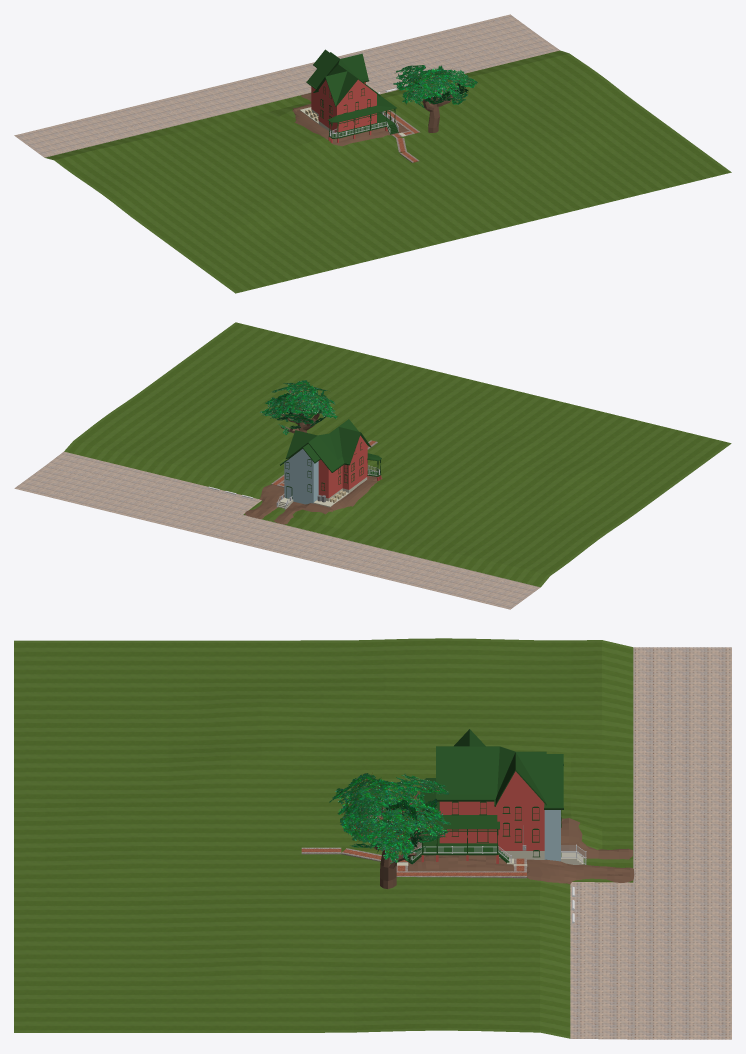
File: georgeStreetForAFrame2.glb
3 renders of one model, top to bottom at view 1: azimuth 30°, elevation 25°; view 2: azimuth 150°, elevation 25°; view 3: azimuth 270°, elevation 25°, orthographic. The views are drawn at different scales.
Visible parts, largest first — view 1: groundPlane, Plane.020, Cube, Plane.004, Plane, mulchPlane_01, tallTree, Cube.021; view 2: groundPlane, Plane.020, Cube, Cube.026, mulchPlane_02, mulchPlane_03, Plane.021; view 3: groundPlane, Plane.020, Cube, mulchPlane_02, Cube.026, mulchPlane_01, mulchPlane_03, Plane.003, Plane, Plane.004, Cube.021, Cube.047 (+4 smaller).
Part boxes in pixels (x1,y1,x2,y2): groundPlane: (45, 50, 731, 293); Plane.020: (14, 14, 559, 157); Cube: (307, 52, 379, 132); Plane.004: (418, 68, 460, 99); Plane: (328, 94, 396, 122); mulchPlane_01: (329, 113, 408, 146); tallTree: (405, 71, 460, 132); Cube.021: (328, 112, 395, 138); groundPlane: (64, 322, 731, 587); Plane.020: (14, 451, 540, 609); Cube: (285, 419, 371, 501); Cube.026: (280, 443, 319, 504); mulchPlane_02: (245, 484, 284, 518); mulchPlane_03: (273, 501, 332, 524); Plane.021: (329, 479, 377, 510); groundPlane: (14, 638, 633, 1038); Plane.020: (570, 647, 731, 1039); Cube: (436, 729, 546, 859); mulchPlane_02: (527, 859, 634, 884); Cube.026: (544, 754, 563, 861); mulchPlane_01: (408, 828, 513, 871); mulchPlane_03: (561, 818, 632, 859); Plane.003: (390, 803, 450, 837); Plane: (420, 778, 499, 829); Plane.004: (329, 773, 390, 819); Cube.021: (421, 829, 498, 855); Cube.047: (411, 842, 586, 864).
Bounding box in the file's own units: 56.19 × 7.9 × 43.45.
Materials: 13 (4 with a texture image).
